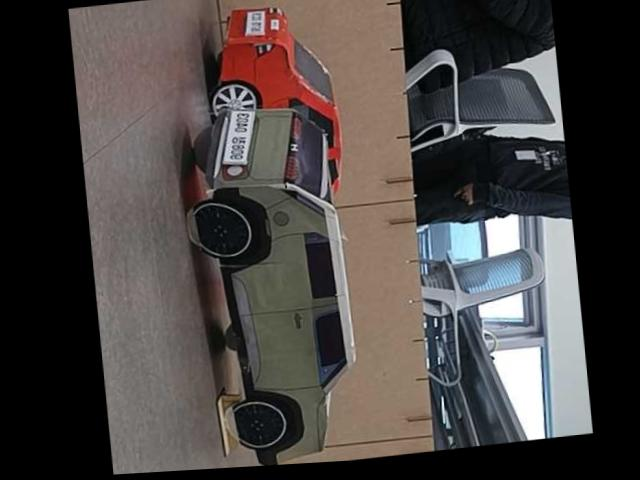car: (173, 91, 367, 470), (203, 0, 349, 239)
id: (216, 106, 257, 170)
